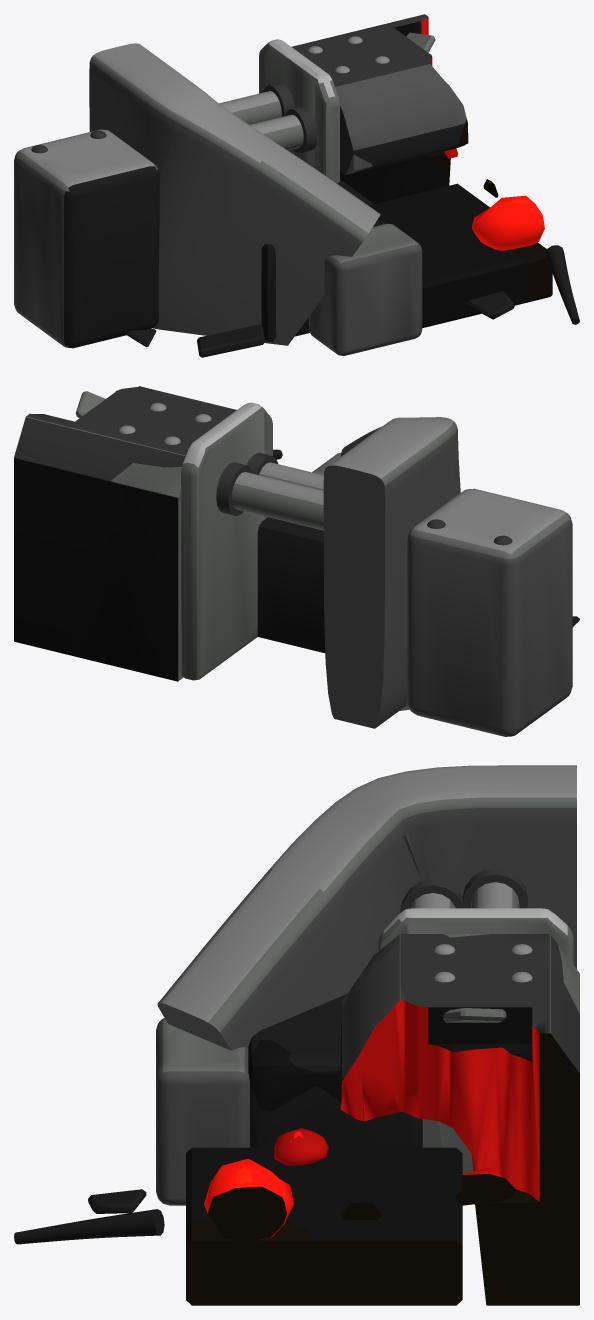
Rendered from jaw_gun_b_left_wreck.glb.
The picture shows the model from 3 angles, top to bottom: view 1: azimuth 30°, elevation 25°; view 2: azimuth 150°, elevation 25°; view 3: azimuth 270°, elevation 25°; orthographic projection. The views are drawn at different scales.
Visible parts, largest first — view 1: bracket.001, pod.001, upper_jaw.001, mouth_floor.001, bracket_foot.001, flange.001, ember3.001, base.001, shard3.001, rod0.001, rod1.001, charred_fang3.001 (+3 smaller); view 2: upper_jaw.001, pod.001, bracket.001, flange.001, base.001, rod0.001, rod1.001, rod0_collar0.001; view 3: upper_jaw.001, bracket.001, mouth_floor.001, base.001, bracket_foot.001, flange.001, ember3.001, charred_fang3.001, ember1.001, ember4.001, rod0_collar1.001, shard2.001 (+3 smaller).
Boxes of the visible parts, <box> form: bracket.001: <box>89,43,380,345</box>; pod.001: <box>14,129,159,348</box>; upper_jaw.001: <box>291,14,468,203</box>; mouth_floor.001: <box>374,183,552,327</box>; bracket_foot.001: <box>309,223,422,355</box>; flange.001: <box>259,39,339,183</box>; ember3.001: <box>471,195,544,250</box>; base.001: <box>261,179,389,341</box>; shard3.001: <box>197,324,264,357</box>; rod0.001: <box>219,91,281,124</box>; rod1.001: <box>250,114,303,150</box>; charred_fang3.001: <box>545,245,579,324</box>; upper_jaw.001: <box>14,386,236,681</box>; pod.001: <box>407,488,572,736</box>; bracket.001: <box>323,417,460,728</box>; flange.001: <box>181,402,272,680</box>; base.001: <box>257,517,325,653</box>; rod0.001: <box>231,472,323,530</box>; rod1.001: <box>259,462,323,490</box>; rod0_collar0.001: <box>216,462,253,515</box>; upper_jaw.001: <box>340,934,579,1305</box>; bracket.001: <box>157,765,576,1050</box>; mouth_floor.001: <box>186,1147,462,1305</box>; base.001: <box>248,994,422,1147</box>; bracket_foot.001: <box>156,1018,249,1205</box>; flange.001: <box>377,908,573,1174</box>; ember3.001: <box>204,1158,293,1241</box>; charred_fang3.001: <box>14,1209,164,1244</box>; ember1.001: <box>455,1167,516,1205</box>; ember4.001: <box>274,1128,328,1165</box>; rod0_collar1.001: <box>462,868,527,908</box>; shard2.001: <box>88,1189,146,1213</box>.
Bounding box in the file's own units: 23.4 × 11.85 × 19.03.
